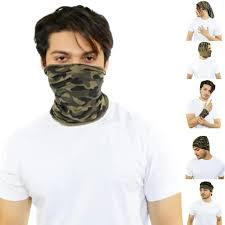mask: (42, 62, 114, 125)
